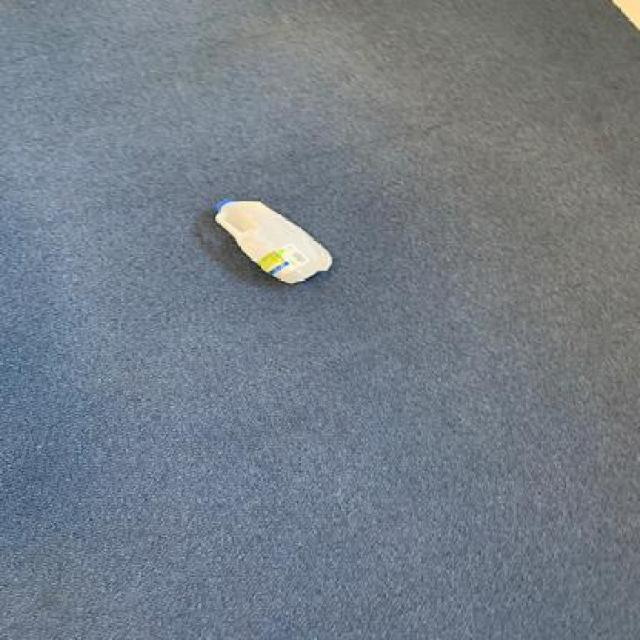trash: (212, 198, 336, 292)
